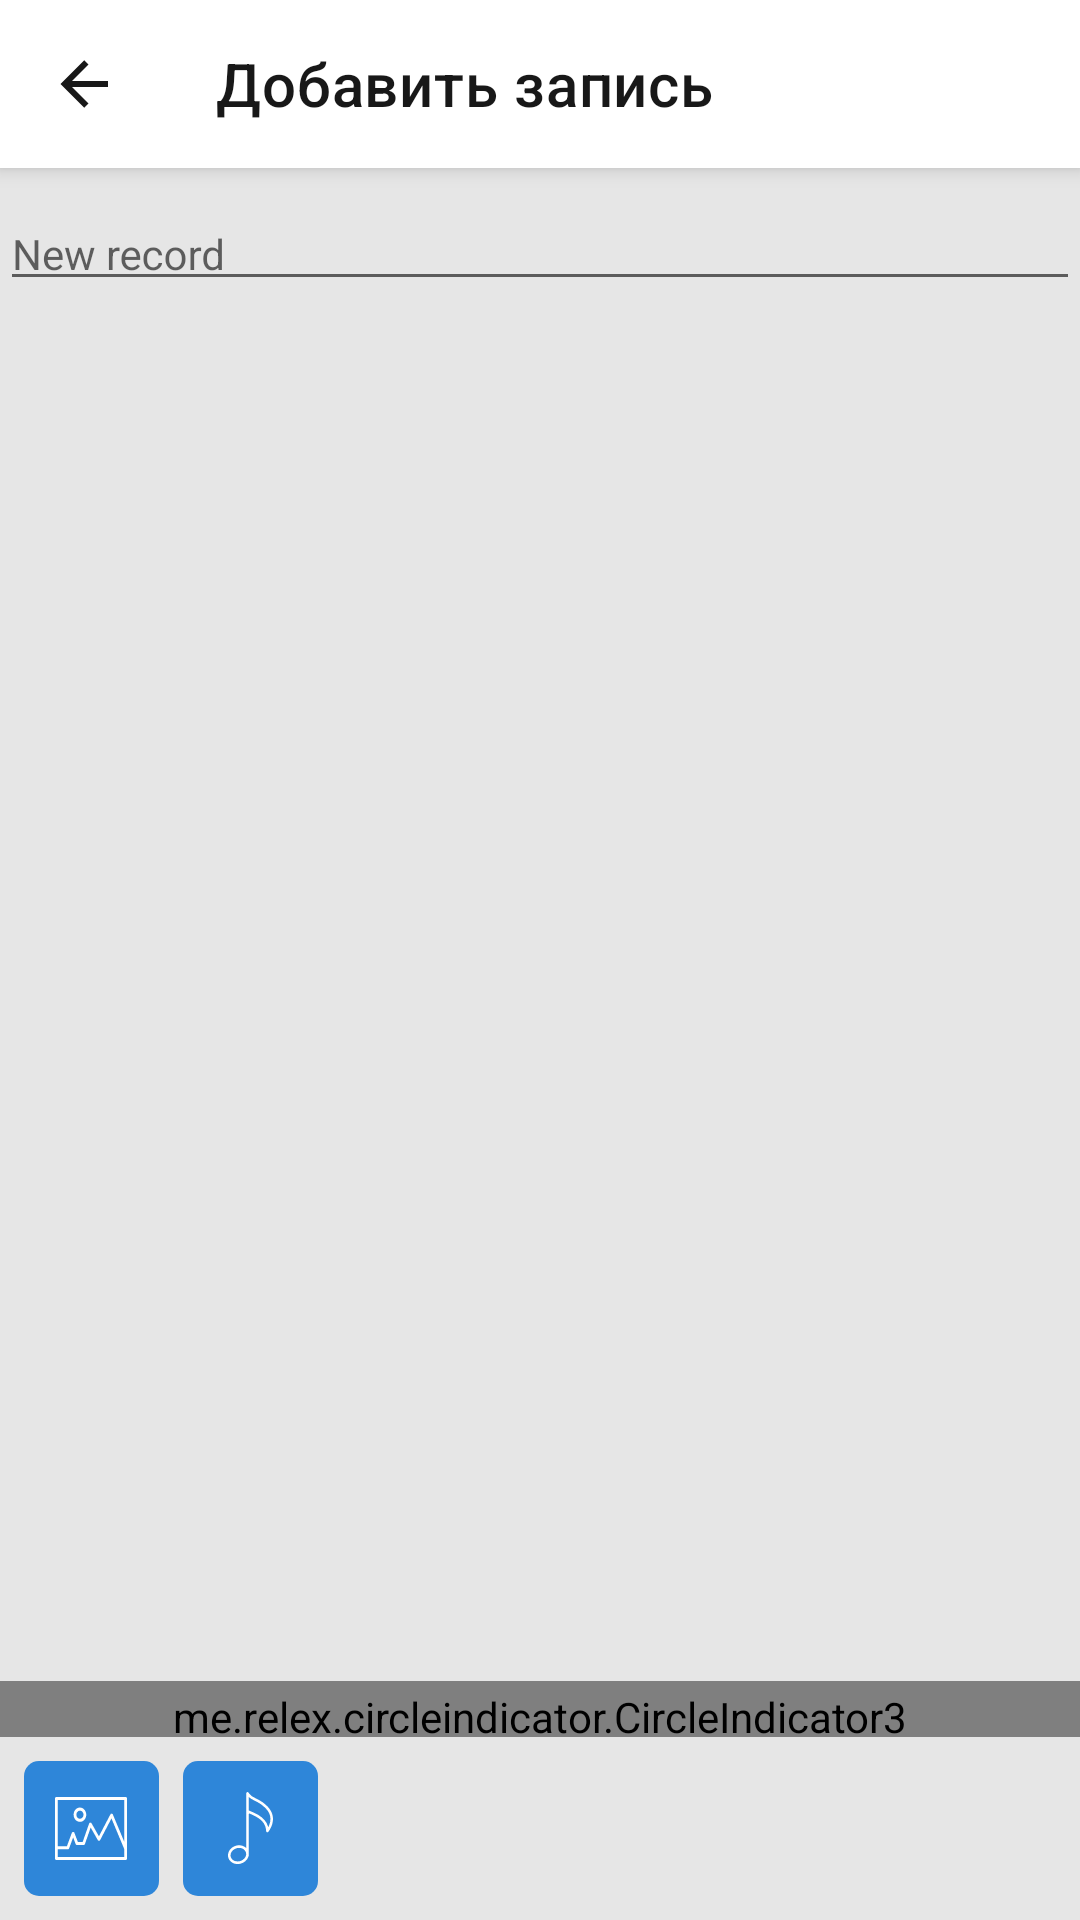

Where icons sit on this 1080 × 1920 app screen, as (x1, y1, x2, y2):
song: (228, 1792, 273, 1864)
